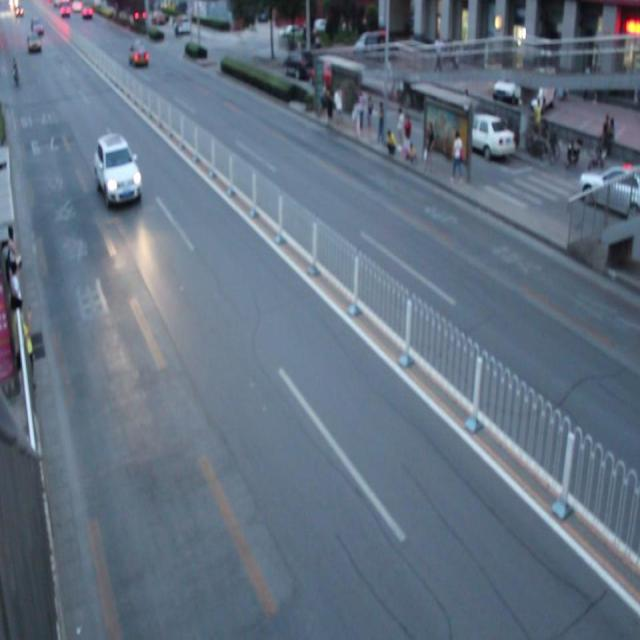car: (94, 132, 142, 207)
